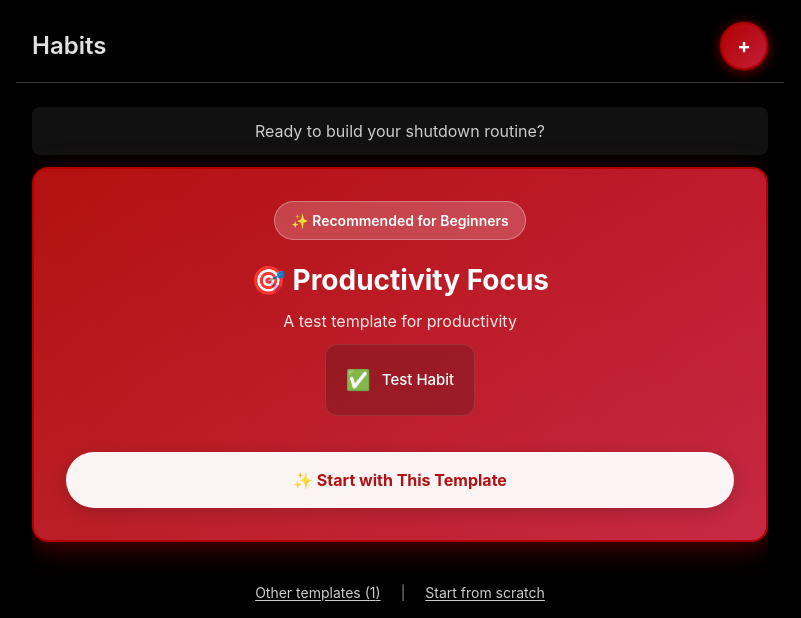
Test: HabitManager › should show add habit form when Add New Habit is clicked
The image size is (801, 618).
Step 1. Click the button named "Add new habit" → (744, 46), box [720, 22, 768, 70]
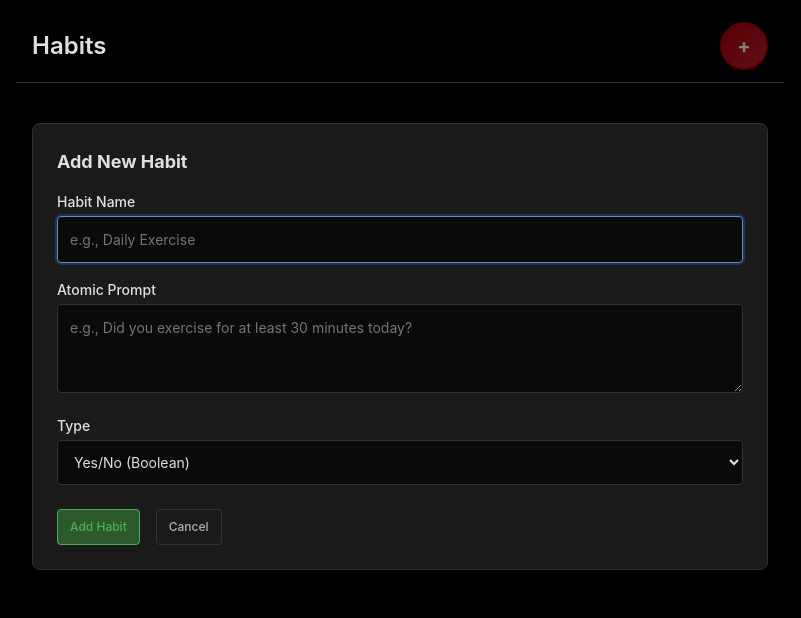
Now the field labelled "Habit Name" is shown, box [57, 216, 743, 263]
Now the text box labelled "Atomic Prompt" is shown, box [57, 304, 743, 393]
Now the button "Add Habit" is shown, box [57, 509, 140, 545]
